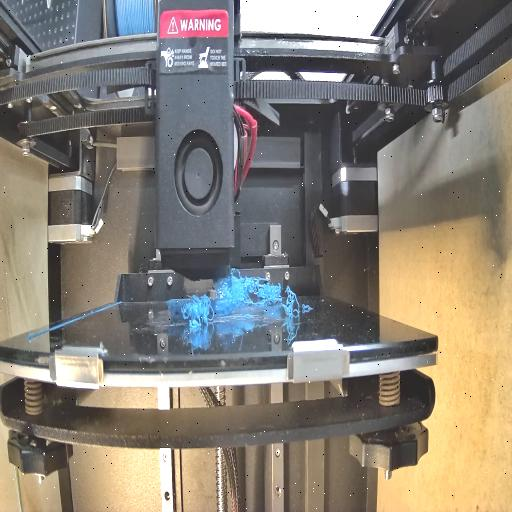spaghetti: (217, 276, 283, 312), (182, 290, 218, 325), (286, 286, 302, 328)
